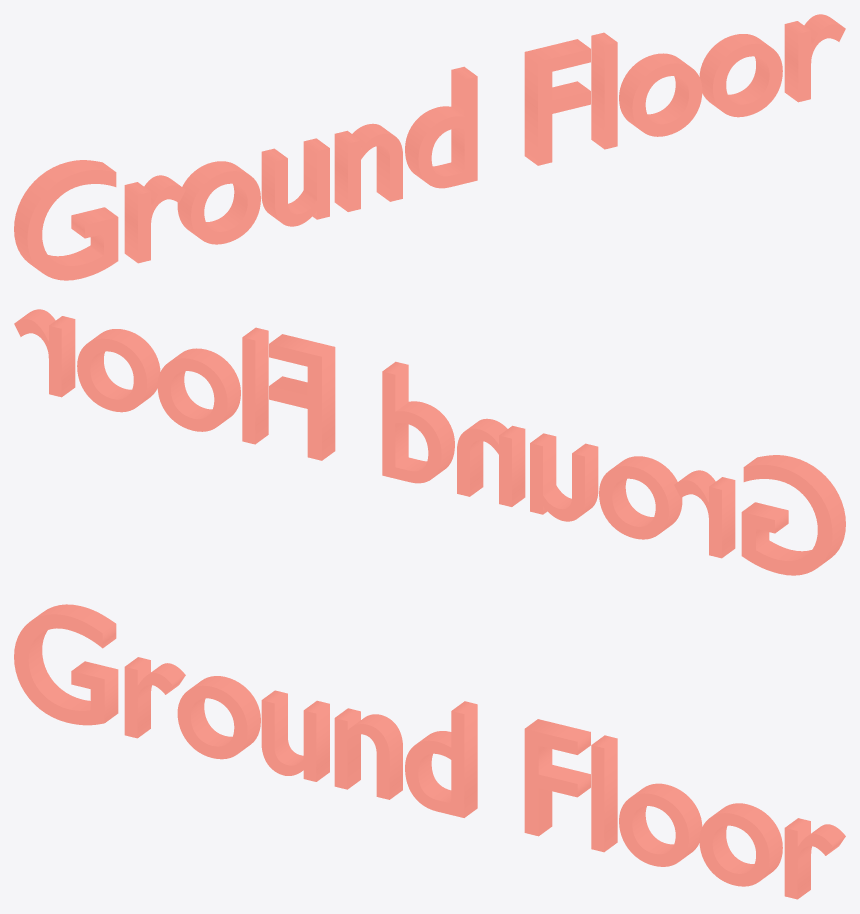
Rendered from groundFloorText.glb.
3 views of the same model, one above another, from view 1: azimuth 30°, elevation 25°; view 2: azimuth 150°, elevation 25°; view 3: azimuth 330°, elevation 25° (orthographic).
Visible parts, largest first — view 1: Text; view 2: Text; view 3: Text.
Boxes of the visible parts, x1,y1,x2,y2 form: Text: (14,14,845,280); Text: (14,309,845,575); Text: (14,604,845,899).
Size of the model in its own units: 5.62 by 0.7 by 0.16.
